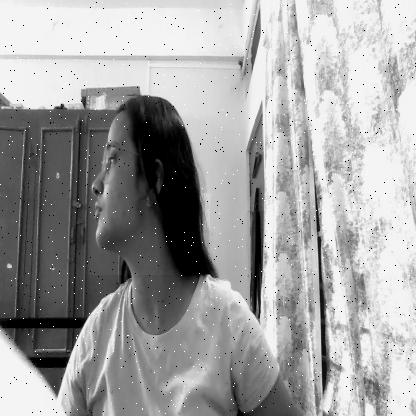Distracted: (88, 92, 180, 275)
